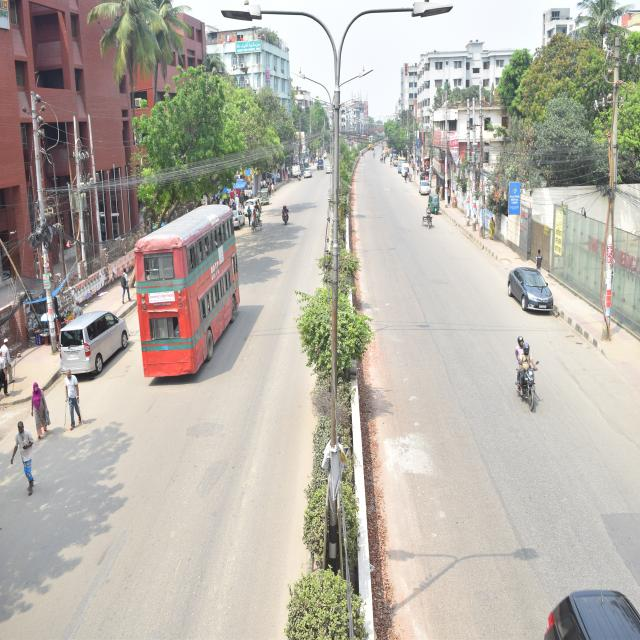car: (41, 288, 139, 402), (530, 548, 640, 640), (498, 232, 579, 344), (216, 190, 250, 231), (247, 185, 270, 228), (416, 169, 436, 210), (398, 156, 421, 188), (304, 156, 318, 193), (326, 161, 341, 181)
motorbike: (509, 325, 562, 433), (266, 192, 301, 245)
pickup-van: (288, 156, 308, 195), (316, 150, 332, 182)
